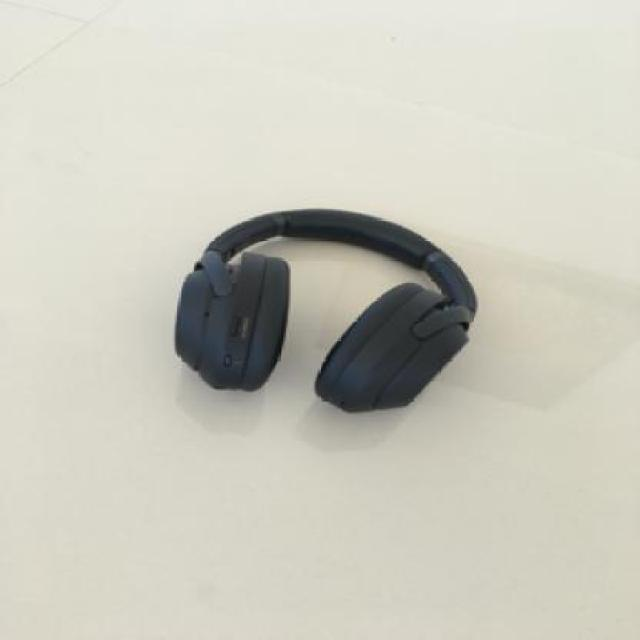earphone: (128, 138, 528, 458)
